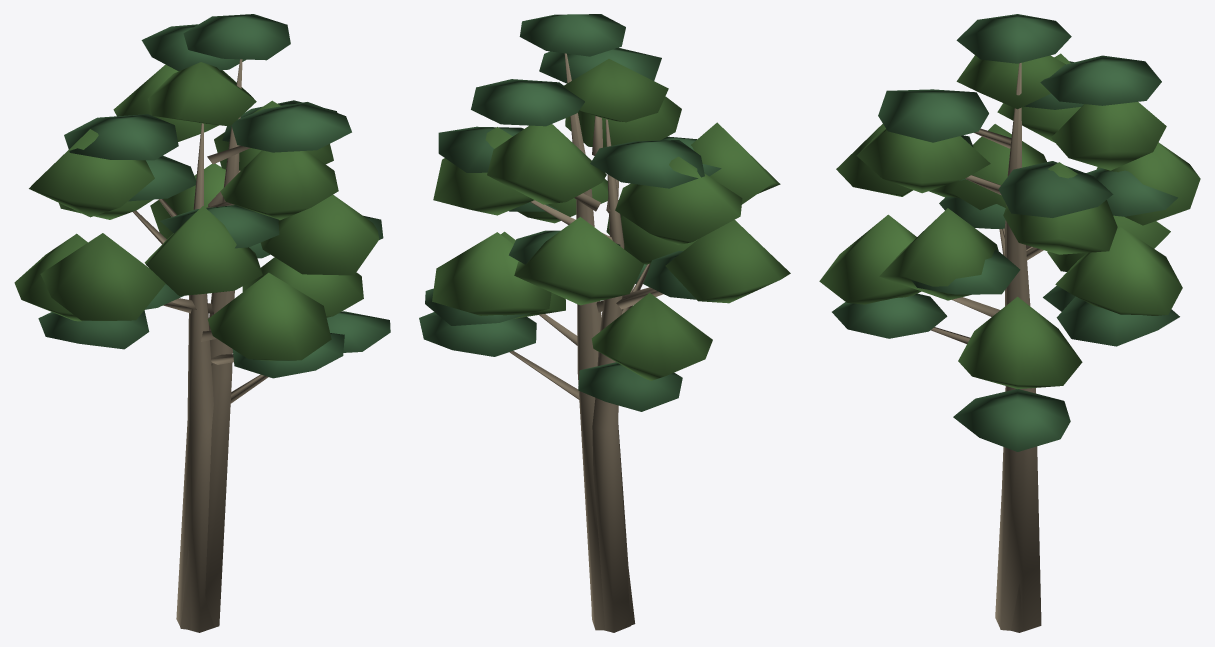
Rendered from trail-assets-low.glb.
The picture shows the model from 3 angles, left to right: view 1: azimuth 30°, elevation 25°; view 2: azimuth 150°, elevation 25°; view 3: azimuth 270°, elevation 25°; orthographic projection. The views are drawn at different scales.
Parts seen in each view (by area): view 1: BroadleafLowLeaves, PineLowNeedles, BroadleafLowBark, PineLowBark; view 2: BroadleafLowLeaves, PineLowNeedles, BroadleafLowBark, PineLowBark; view 3: BroadleafLowLeaves, PineLowNeedles, PineLowBark, BroadleafLowBark.
Part boxes in pixels (box(x1,y1,x2,y2)): BroadleafLowLeaves: box(14, 62, 379, 360); PineLowNeedles: box(38, 14, 390, 378); BroadleafLowBark: box(133, 123, 234, 632); PineLowBark: box(158, 59, 268, 629); BroadleafLowLeaves: box(432, 59, 790, 380); PineLowNeedles: box(419, 14, 721, 411); BroadleafLowBark: box(530, 119, 663, 632); PineLowBark: box(509, 53, 653, 630); BroadleafLowLeaves: box(819, 53, 1200, 389); PineLowNeedles: box(832, 14, 1179, 451); PineLowBark: box(931, 63, 1041, 631); BroadleafLowBark: box(952, 175, 1043, 632).
Bounding box in the file's own units: 5.21 × 8.5 × 4.7.
